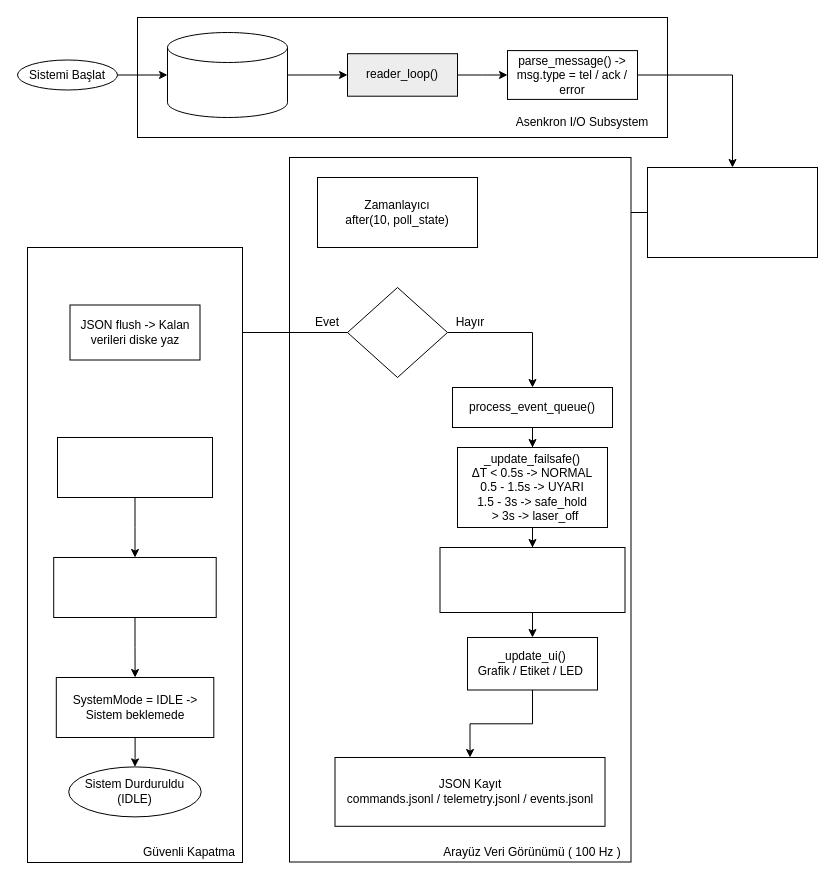
This 835x885 diagram has some shape labels left out. The shapes that lost their labels are listed below. From the top down, each one's centre as x and y in pixels, then its label:
the point at 227,75: connect.serial() / connect.wifi() / enable()
the point at 732,212: Thread-Safe queue.Queue(maxsize=200) Thread 1 -> push() Thread 2 -> drain()
the point at 397,332: Sistem Durduruldu mu?
the point at 134,467: reader_running = False -> Reader thread durdur
the point at 134,587: _disconnect_io() -> Serial/WiFi/ROS bağlantılarını kapat
the point at 532,579: _update_tracking_state() NO_TARGET <-> TRACKING HOLD_LAST <-> SEARCHING
